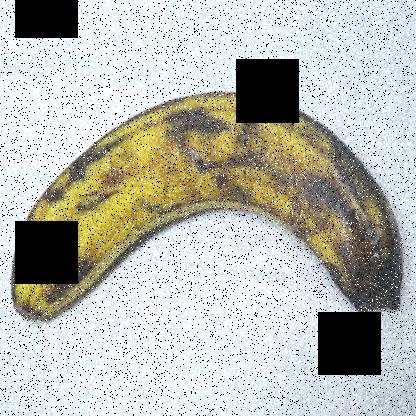overripe: (4, 89, 415, 367)
rotten: (298, 178, 402, 312)
